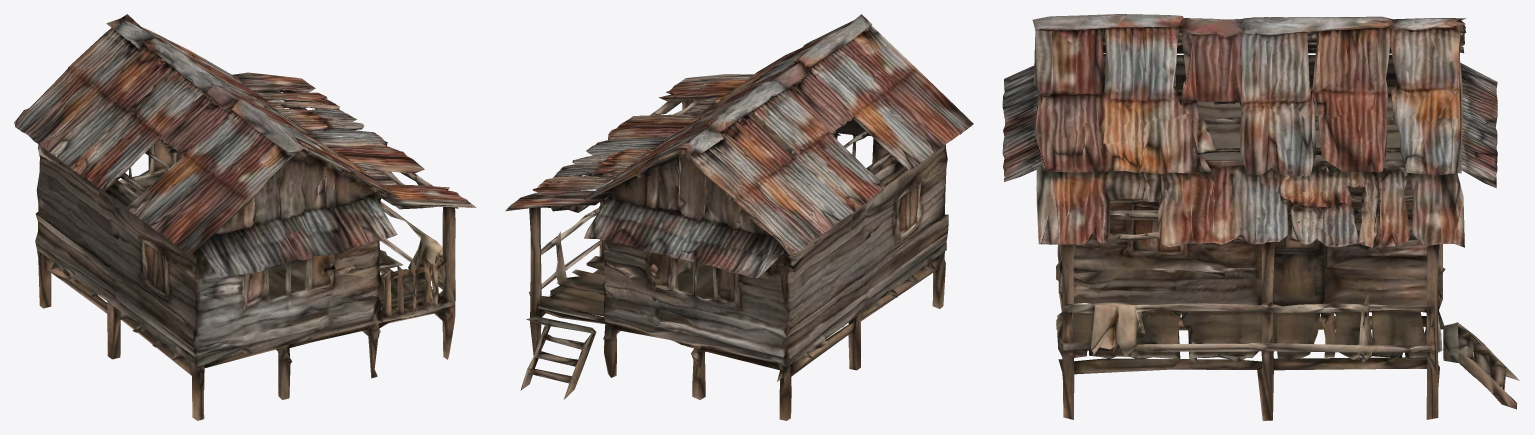
Rendered from house.glb.
3 renders of one model, left to right at view 1: azimuth 30°, elevation 25°; view 2: azimuth 150°, elevation 25°; view 3: azimuth 270°, elevation 25°, orthographic. The views are drawn at different scales.
Parts seen in each view (by area): view 1: tripo_node_2ab5dc92-5b32-4638-b4f4-4ac771f6c5ef; view 2: tripo_node_2ab5dc92-5b32-4638-b4f4-4ac771f6c5ef; view 3: tripo_node_2ab5dc92-5b32-4638-b4f4-4ac771f6c5ef.
Part boxes in pixels (x1,y1,x2,y2): tripo_node_2ab5dc92-5b32-4638-b4f4-4ac771f6c5ef: (14,14,476,420); tripo_node_2ab5dc92-5b32-4638-b4f4-4ac771f6c5ef: (505,14,973,420); tripo_node_2ab5dc92-5b32-4638-b4f4-4ac771f6c5ef: (1002,14,1519,420).
Size of the model in its own units: 0.7683 by 0.6654 by 0.9969.
1 material, 1 textured.
